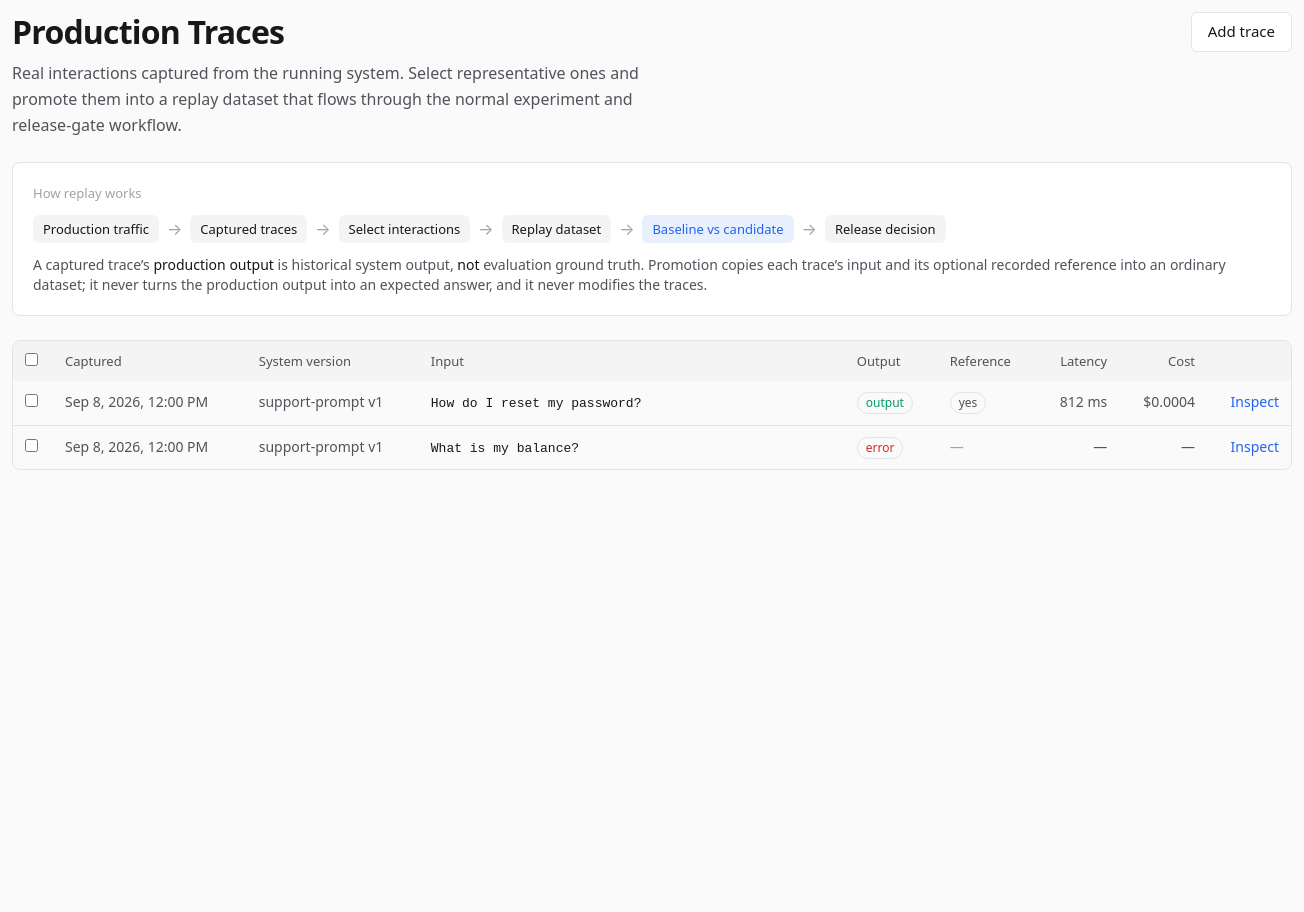
it: ProductionTracesPage › explains a 409 name conflict without blocking
Expected: the text "How do I reset my password?" is shown, [431, 396, 641, 411]
Click the checkbox named "Select trace" at (32, 401), box [25, 394, 38, 407]
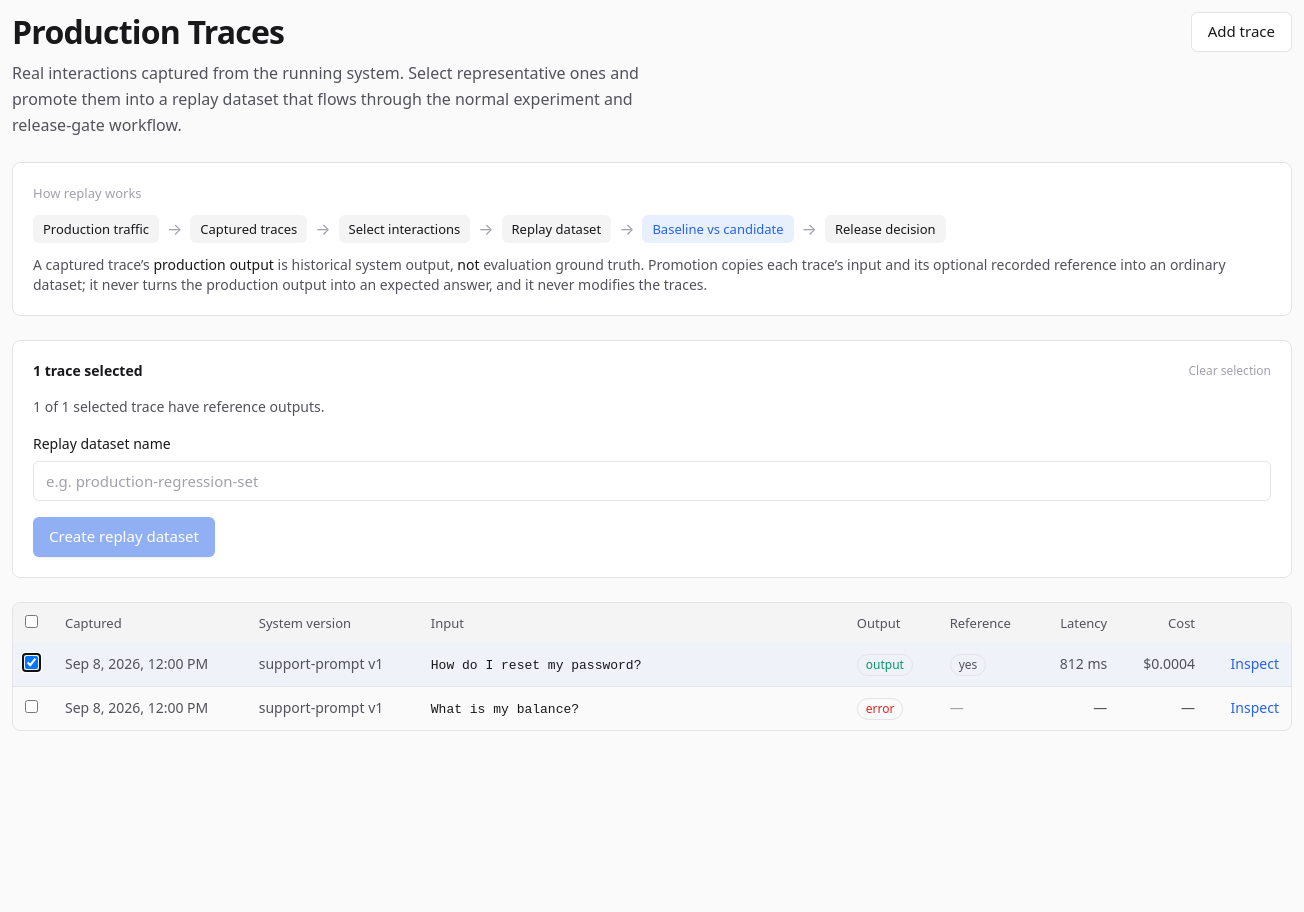
Type "taken" into the field labelled "Replay dataset name" at (652, 481), box [33, 461, 1271, 501]
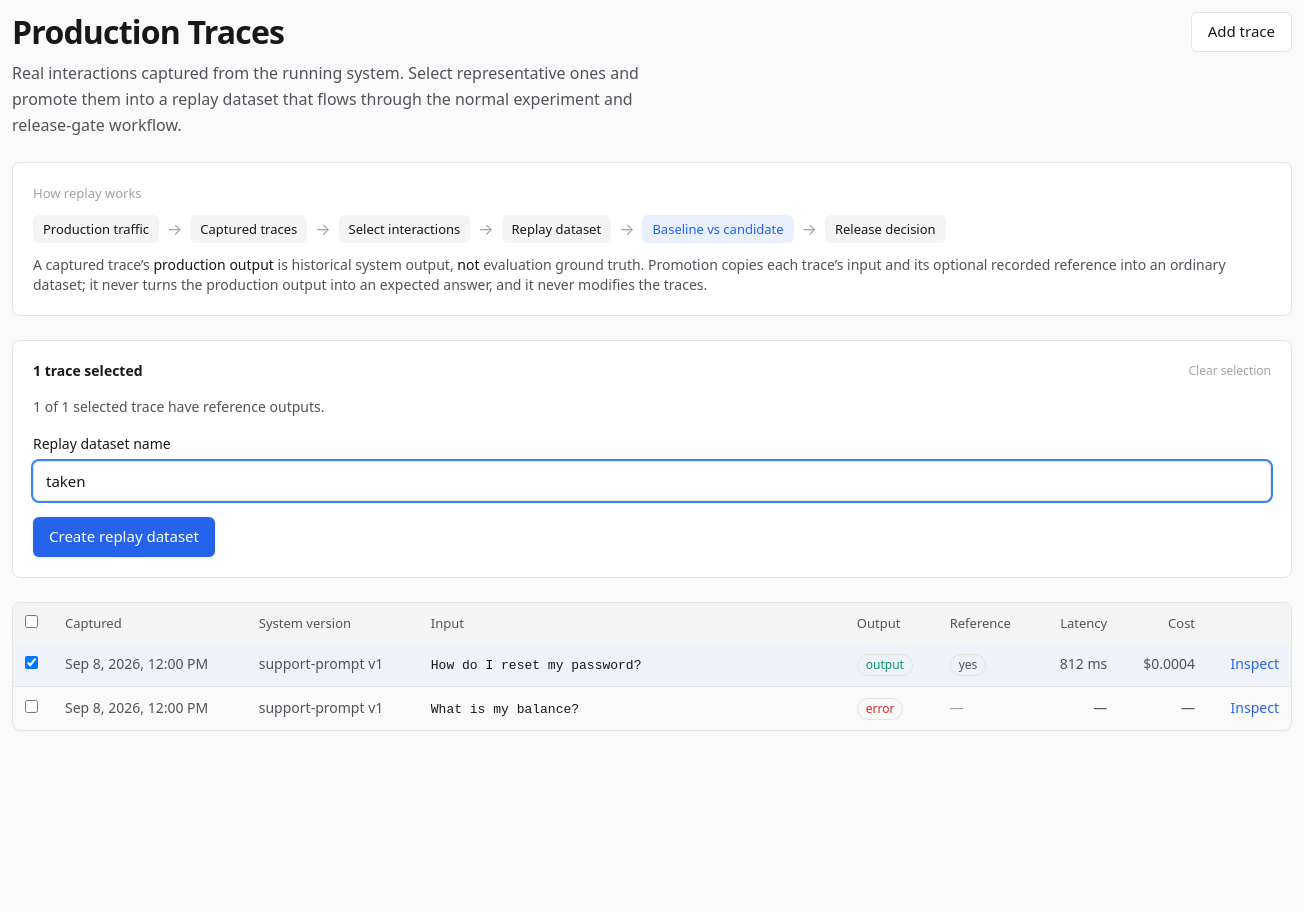
Click the button "Create replay dataset" at (124, 537), box [33, 517, 215, 557]
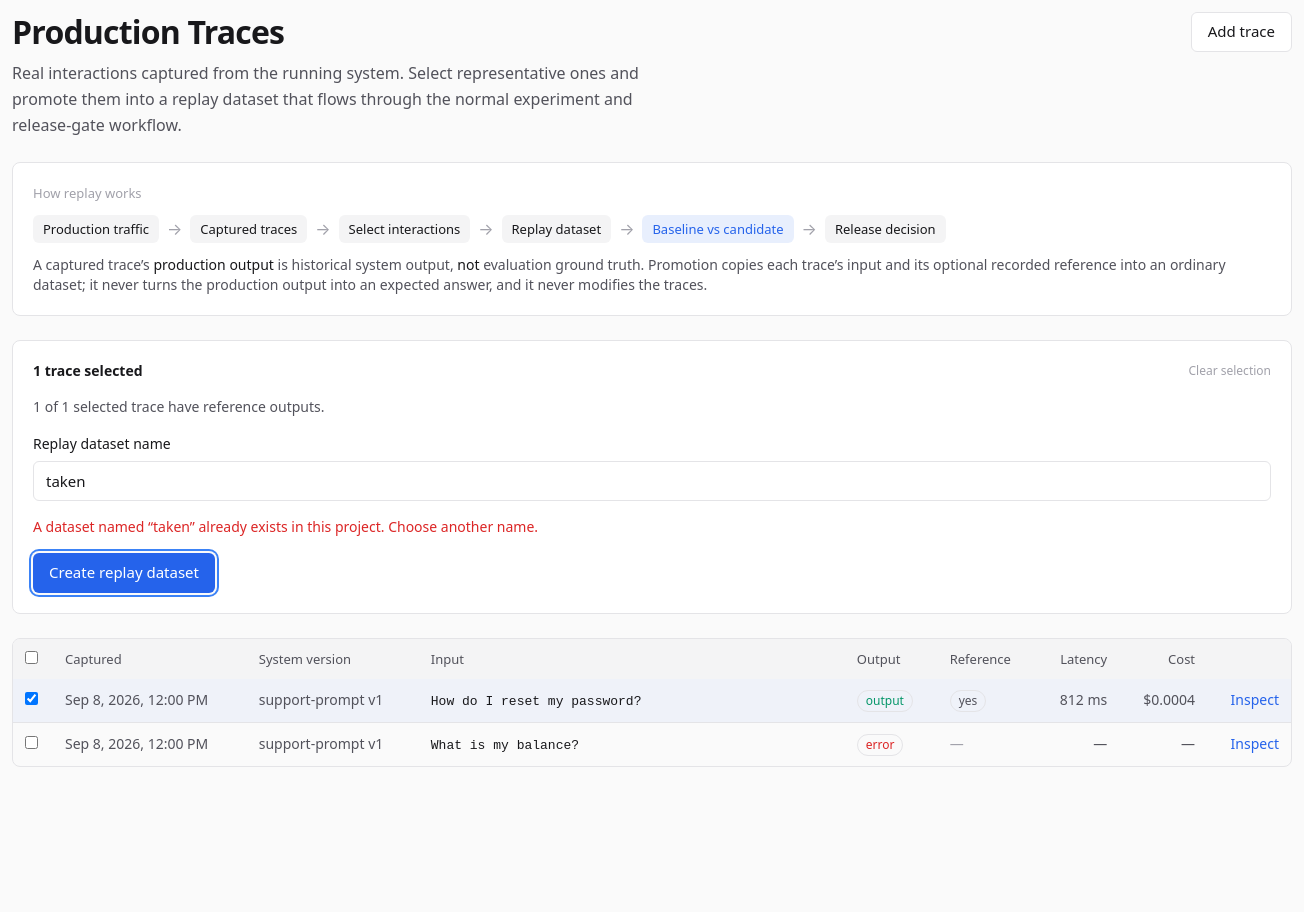
Now the text "already exists in this project" is shown, box [33, 517, 538, 536]
